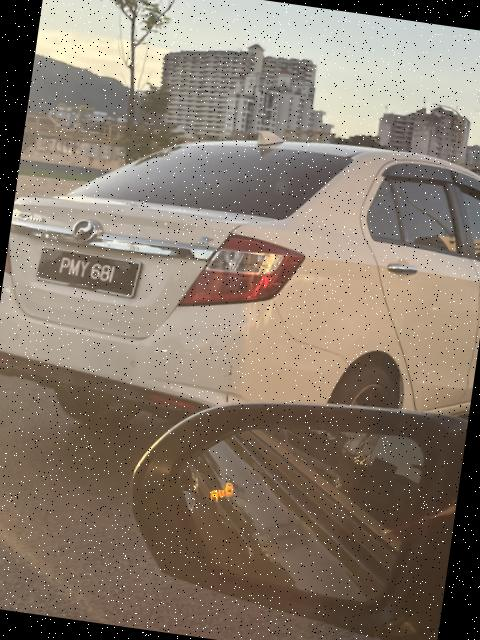License_Plate: (33, 245, 148, 303)
car: (1, 102, 480, 466)
